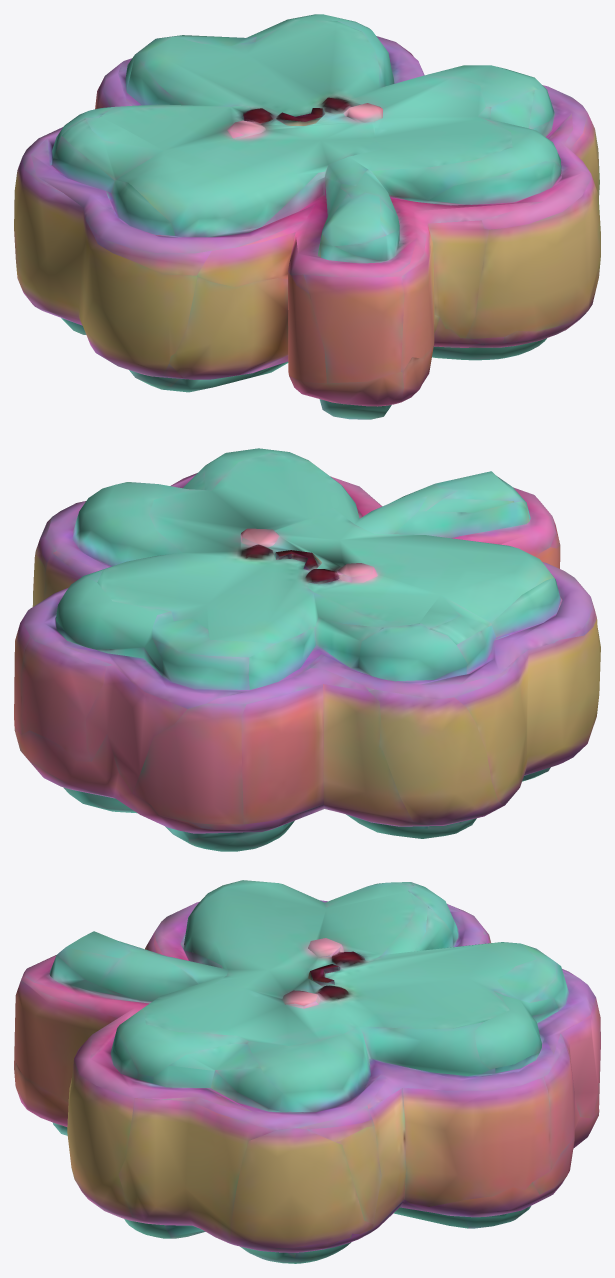
3 views of the same model, one above another, from view 1: azimuth 30°, elevation 25°; view 2: azimuth 150°, elevation 25°; view 3: azimuth 270°, elevation 25° (orthographic). The views are drawn at different scales.
Parts seen in each view (by area): view 1: material; view 2: material; view 3: material.
Part boxes in pixels (x1,y1,x2,y2): material: (14, 14, 600, 419); material: (14, 448, 600, 851); material: (14, 880, 600, 1263).
Size of the model in its own units: 0.9808 by 0.3793 by 1.
Materials: 1 (1 with a texture image).
